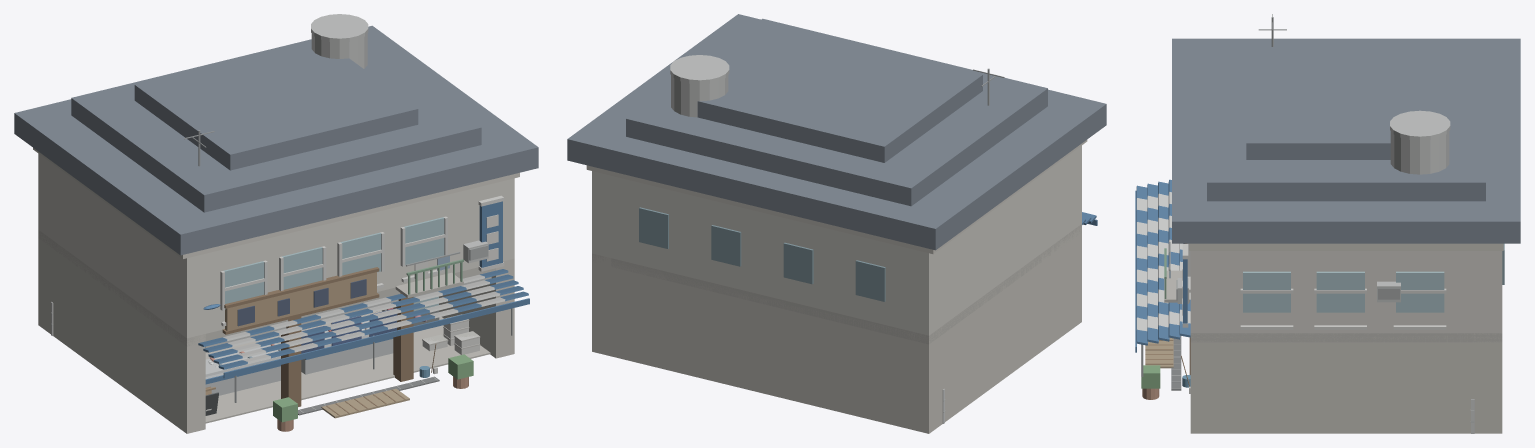
File: fishshop_02.glb
3 views of the same model, side by side, from view 1: azimuth 30°, elevation 25°; view 2: azimuth 150°, elevation 25°; view 3: azimuth 270°, elevation 25° (orthographic). The views are drawn at different scales.
Visible parts, largest first — view 1: fishshop_86_100_118, fishshop_243_238_224, fishshop_228_222_206, fishshop_200_196_184, fishshop_46_92_152, fishshop_150_198_210, fishshop_240_242_238, fishshop_110_78_52, fishshop_206_210_208, fishshop_168_128_88, fishshop_245_244_238, fishshop_196_204_208 (+10 smaller); view 2: fishshop_86_100_118, fishshop_228_222_206, fishshop_243_238_224, fishshop_92_128_142, fishshop_200_196_184, fishshop_206_210_208; view 3: fishshop_86_100_118, fishshop_228_222_206, fishshop_243_238_224, fishshop_150_198_210, fishshop_46_92_152, fishshop_206_210_208, fishshop_200_196_184, fishshop_240_242_238, fishshop_245_244_238, fishshop_172_140_100, fishshop_96_100_102, fishshop_96_158_92.
Part boxes in pixels (x1,y1,x2,y2): fishshop_86_100_118: [14, 25, 538, 255]; fishshop_243_238_224: [38, 153, 514, 338]; fishshop_228_222_206: [33, 148, 519, 433]; fishshop_200_196_184: [38, 230, 495, 423]; fishshop_46_92_152: [198, 201, 529, 384]; fishshop_150_198_210: [223, 217, 444, 311]; fishshop_240_242_238: [223, 274, 505, 363]; fishshop_110_78_52: [222, 267, 413, 415]; fishshop_206_210_208: [205, 14, 491, 347]; fishshop_168_128_88: [225, 272, 376, 330]; fishshop_245_244_238: [220, 195, 504, 326]; fishshop_196_204_208: [205, 339, 393, 395]; fishshop_86_100_118: [567, 14, 1106, 250]; fishshop_228_222_206: [586, 140, 1087, 433]; fishshop_243_238_224: [592, 145, 1081, 335]; fishshop_92_128_142: [639, 207, 885, 301]; fishshop_200_196_184: [592, 224, 1081, 344]; fishshop_206_210_208: [670, 55, 729, 117]; fishshop_86_100_118: [1172, 38, 1520, 243]; fishshop_228_222_206: [1189, 243, 1503, 433]; fishshop_243_238_224: [1190, 251, 1502, 333]; fishshop_150_198_210: [1243, 271, 1444, 312]; fishshop_46_92_152: [1135, 179, 1190, 352]; fishshop_206_210_208: [1177, 110, 1450, 303]; fishshop_200_196_184: [1164, 270, 1502, 342]; fishshop_240_242_238: [1136, 192, 1190, 331]; fishshop_245_244_238: [1182, 243, 1446, 329]; fishshop_172_140_100: [1145, 338, 1173, 368]; fishshop_96_100_102: [1171, 335, 1181, 390]; fishshop_96_158_92: [1141, 365, 1160, 388].
Size of the model in its own units: 15.3 by 10.76 by 13.6.
